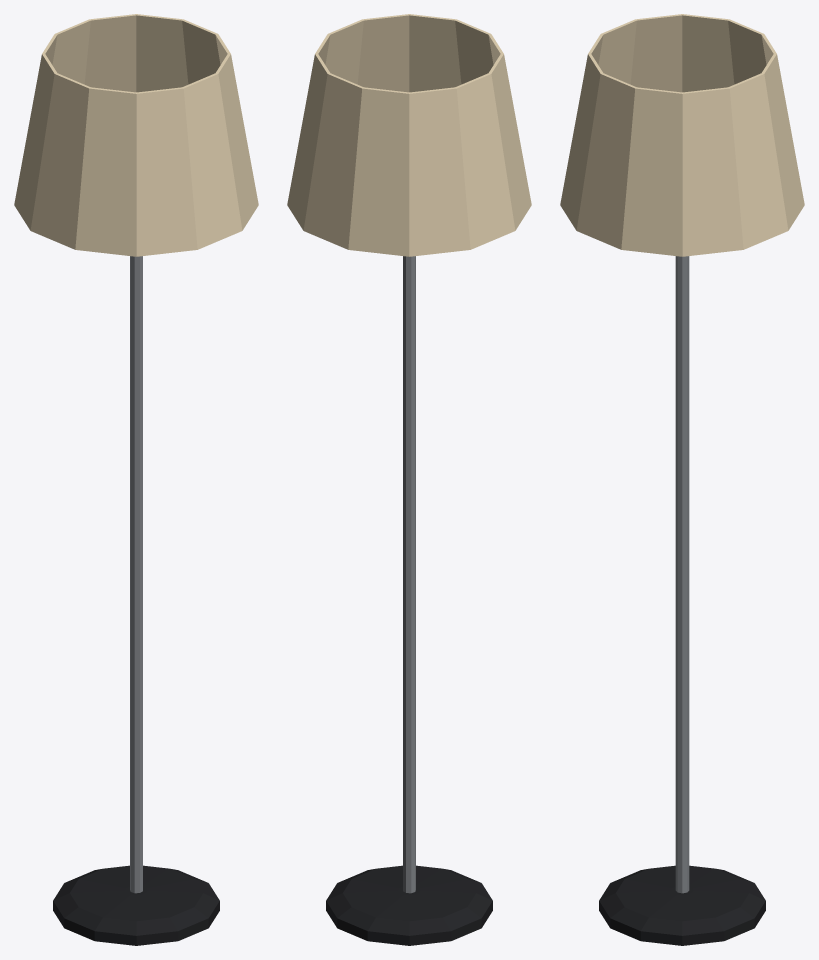
File: Lampara.fbx
3 renders of one model, left to right at view 1: azimuth 30°, elevation 25°; view 2: azimuth 150°, elevation 25°; view 3: azimuth 270°, elevation 25°, orthographic.
Parts seen in each view (by area): view 1: Deco_Lampara_Pie; view 2: Deco_Lampara_Pie; view 3: Deco_Lampara_Pie.
Part boxes in pixels (x1,y1,x2,y2): Deco_Lampara_Pie: (14, 14, 258, 945); Deco_Lampara_Pie: (287, 14, 531, 945); Deco_Lampara_Pie: (560, 14, 804, 945).
Size of the model in its own units: 0.44 by 1.7 by 0.44.
